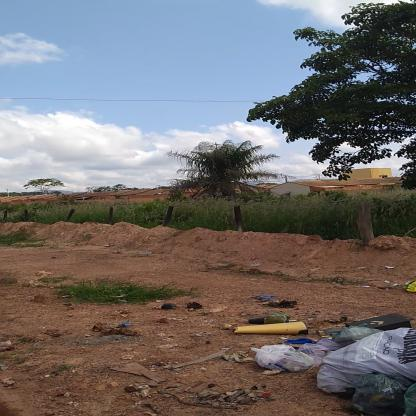lixo: (232, 308, 416, 406)
